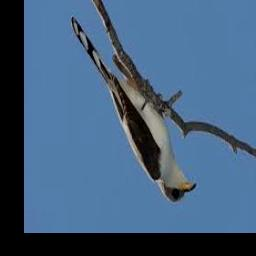Cuckoo: (71, 16, 196, 204)
